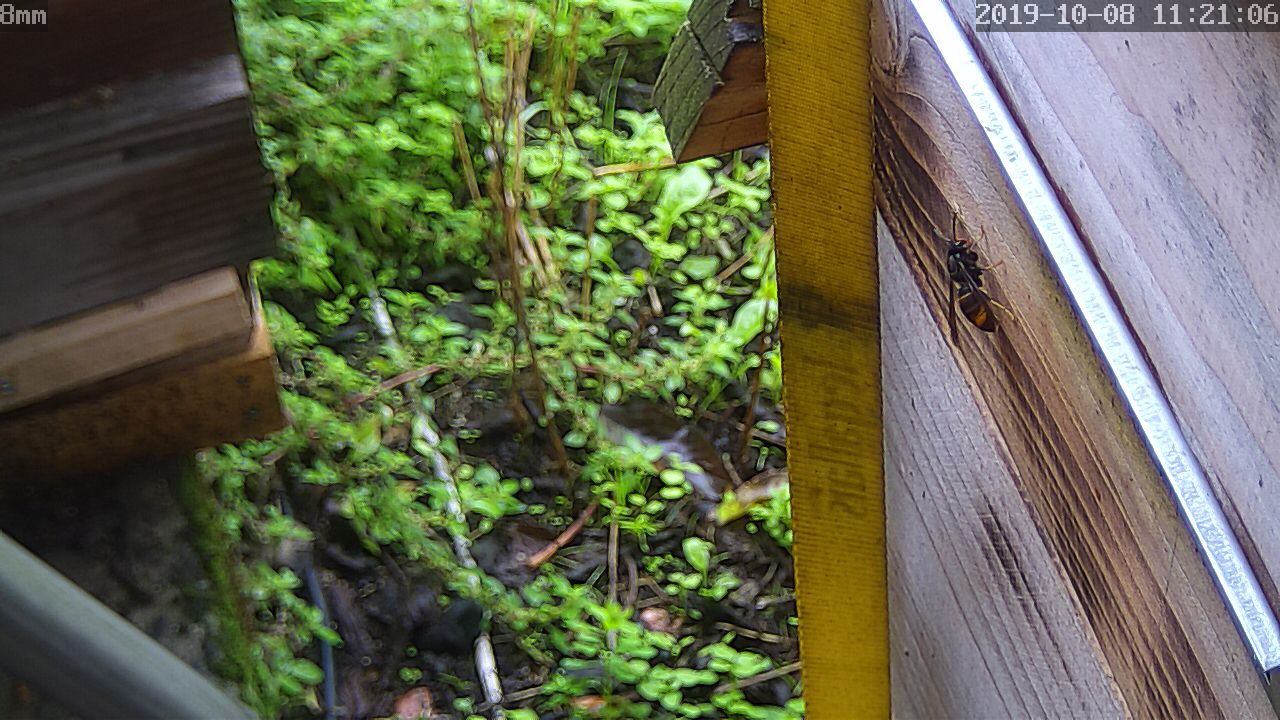hornet: (938, 230, 1000, 337)
